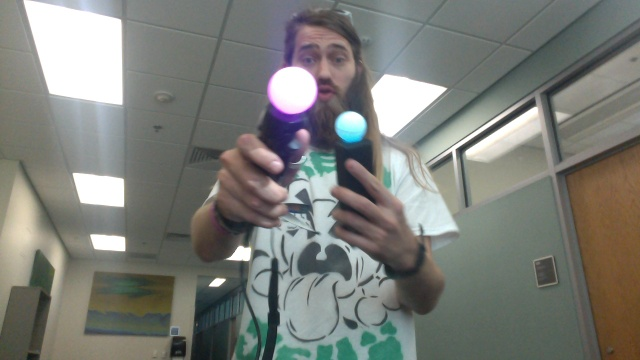wand: (268, 68, 317, 114), (336, 112, 367, 143)
